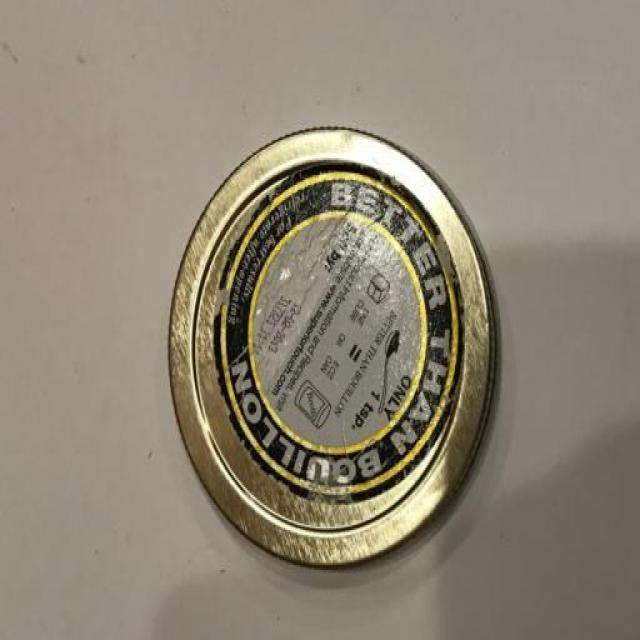metel: (142, 118, 535, 619)
